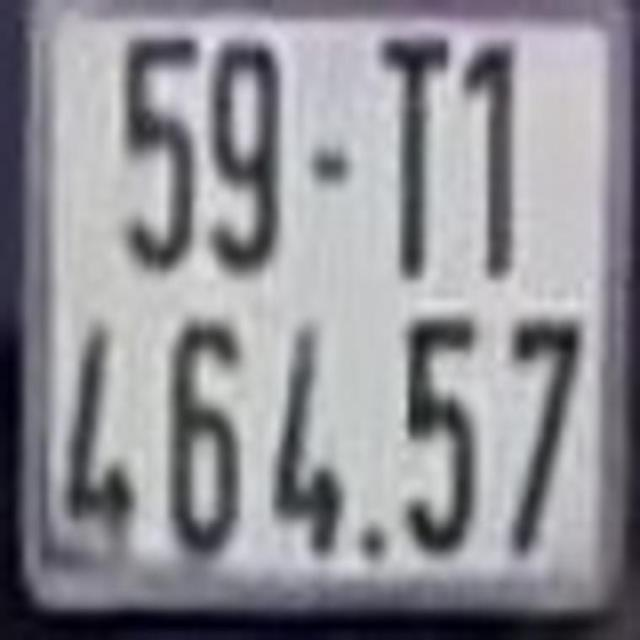1: (463, 36, 521, 277)
4: (274, 322, 343, 557), (66, 327, 136, 550)
5: (122, 32, 199, 272), (405, 315, 478, 554)
6: (171, 319, 241, 554)
7: (509, 317, 582, 558)
9: (209, 35, 280, 272)
T: (377, 33, 451, 277)
